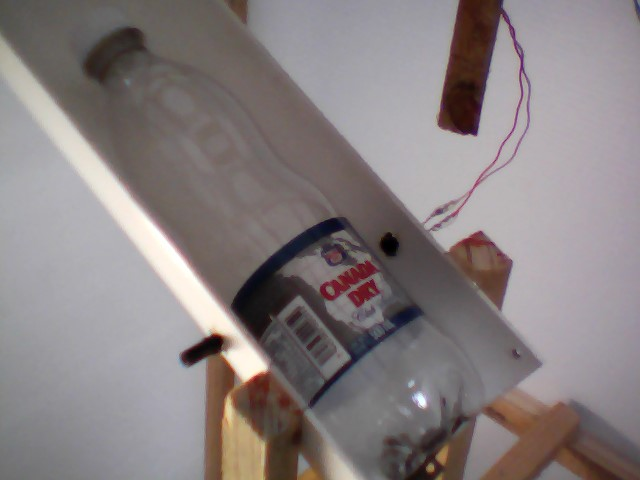plastico: (63, 6, 489, 478)
